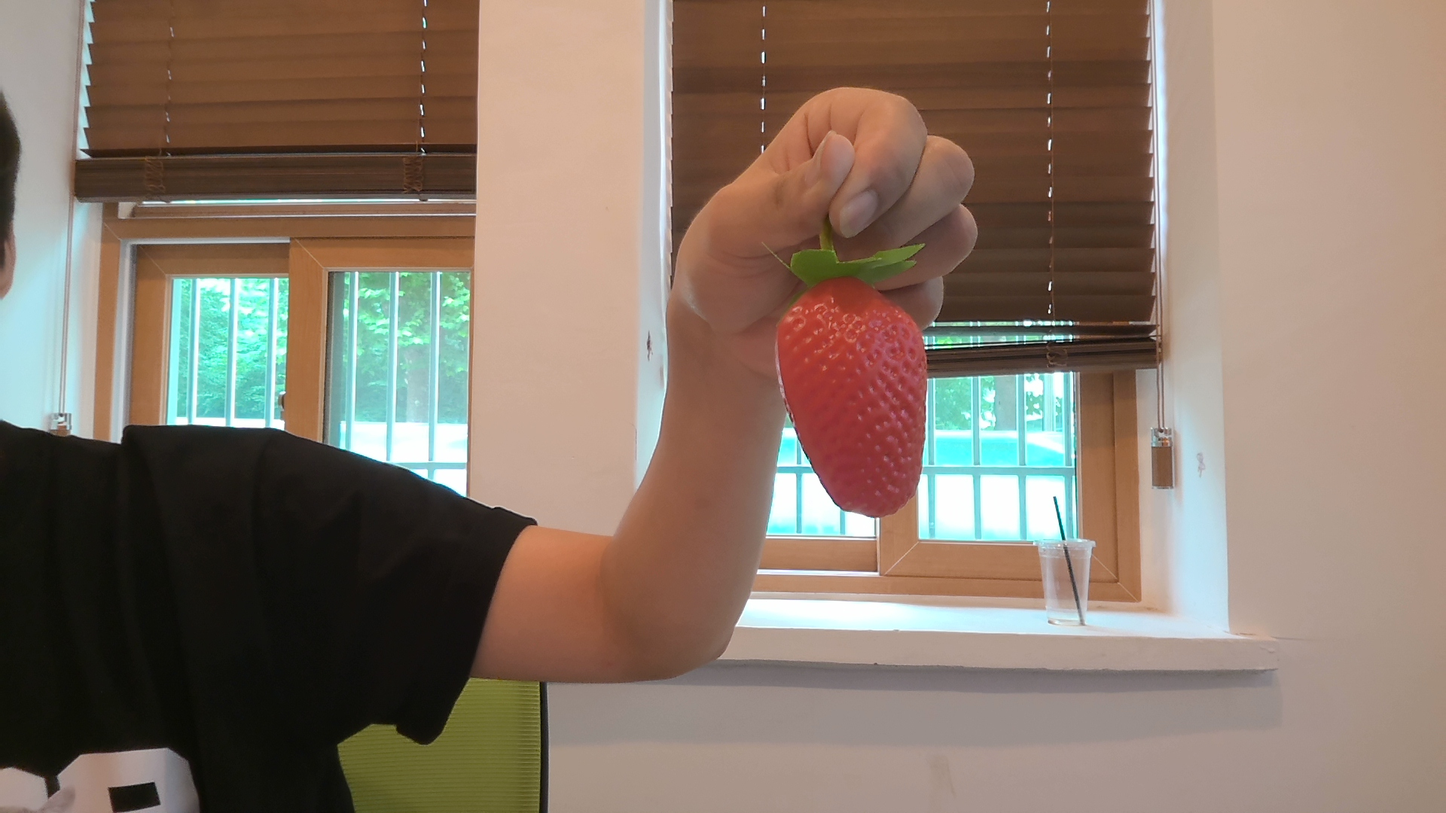strawberry: (774, 260, 940, 518)
